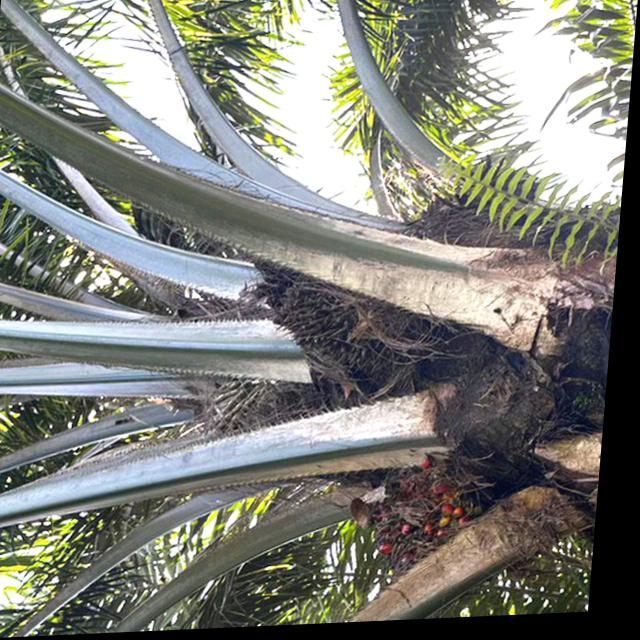almost: (243, 252, 459, 408)
